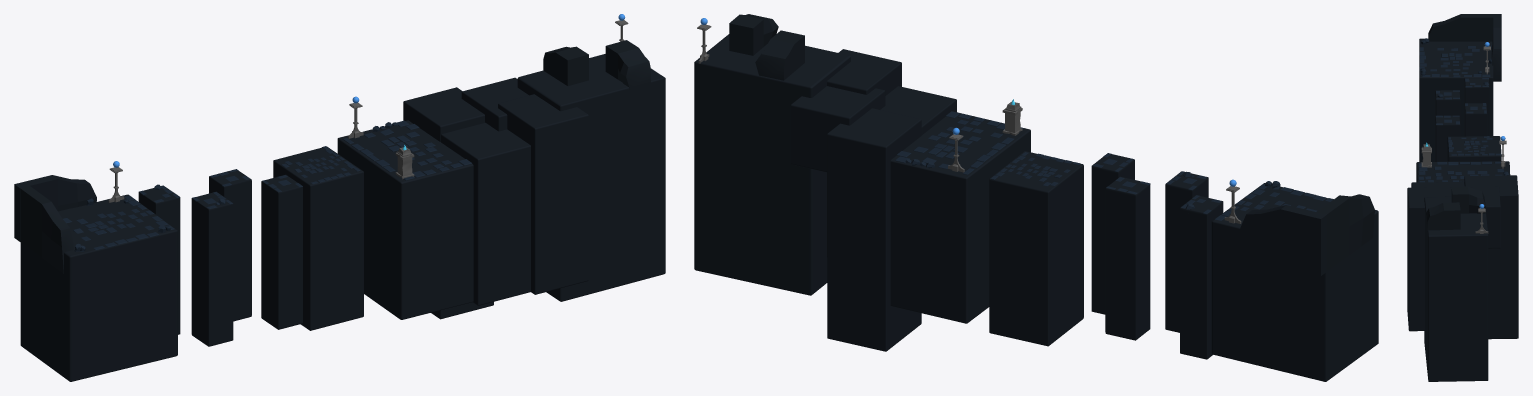
The model's file is level_2_block_1.gltf.
3 views of the same model, side by side, from view 1: azimuth 30°, elevation 25°; view 2: azimuth 150°, elevation 25°; view 3: azimuth 270°, elevation 25° (orthographic). The views are drawn at different scales.
Visible parts, largest first — view 1: Cube 14, Cube 13, Cube 8, Cube 5 (×4), Cube 12, Cube 18, Cube 9, Cube 10, Cube 4, Cube 3, Cube 11, Cube 17 (+1 smaller); view 2: Cube 13, Cube 14, Cube 8, Cube 5 (×4), Cube 10, Cube 18, Cube 3, Cube 11, Cube 4, Cube 12, Cube 9, Cube 16 (+1 smaller); view 3: Cube 13, Cube 10, Cube 14, Cube 5 (×4), Cube 12, Cube 4, Cube 18, Cube 8, Cube 11, Cube 17, Cube 16, Cube 3 (+2 smaller).
Boxes of the visible parts, x1=… form: Cube 14: x1=20, y1=194, x2=177, y2=381; Cube 13: x1=517, y1=54, x2=665, y2=301; Cube 8: x1=337, y1=120, x2=473, y2=319; Cube 5 (×4): x1=138, y1=170, x2=302, y2=346; Cube 12: x1=498, y1=94, x2=588, y2=294; Cube 18: x1=273, y1=146, x2=363, y2=330; Cube 9: x1=441, y1=122, x2=530, y2=305; Cube 10: x1=403, y1=87, x2=493, y2=319; Cube 4: x1=20, y1=186, x2=73, y2=273; Cube 3: x1=14, y1=175, x2=96, y2=241; Cube 11: x1=461, y1=77, x2=528, y2=131; Cube 17: x1=605, y1=40, x2=650, y2=89; Cube 13: x1=694, y1=34, x2=850, y2=295; Cube 14: x1=1211, y1=183, x2=1378, y2=381; Cube 8: x1=890, y1=111, x2=1030, y2=323; Cube 5 (×4): x1=1091, y1=154, x2=1223, y2=359; Cube 10: x1=827, y1=108, x2=921, y2=351; Cube 18: x1=989, y1=151, x2=1083, y2=346; Cube 3: x1=1240, y1=205, x2=1326, y2=275; Cube 11: x1=790, y1=86, x2=885, y2=172; Cube 4: x1=1316, y1=194, x2=1374, y2=271; Cube 12: x1=827, y1=49, x2=901, y2=256; Cube 9: x1=880, y1=86, x2=956, y2=134; Cube 16: x1=755, y1=30, x2=804, y2=80; Cube 13: x1=1424, y1=196, x2=1488, y2=381; Cube 10: x1=1464, y1=175, x2=1518, y2=339; Cube 14: x1=1419, y1=38, x2=1493, y2=161; Cube 5 (×4): x1=1435, y1=78, x2=1489, y2=161; Cube 12: x1=1407, y1=187, x2=1451, y2=331; Cube 4: x1=1428, y1=14, x2=1493, y2=41; Cube 18: x1=1447, y1=136, x2=1501, y2=161; Cube 8: x1=1416, y1=161, x2=1510, y2=182; Cube 11: x1=1470, y1=186, x2=1500, y2=248; Cube 17: x1=1426, y1=202, x2=1460, y2=230; Cube 16: x1=1451, y1=186, x2=1485, y2=213; Cube 3: x1=1491, y1=14, x2=1501, y2=81.
Size of the model in its own units: 27.68 by 10.93 by 5.93.
